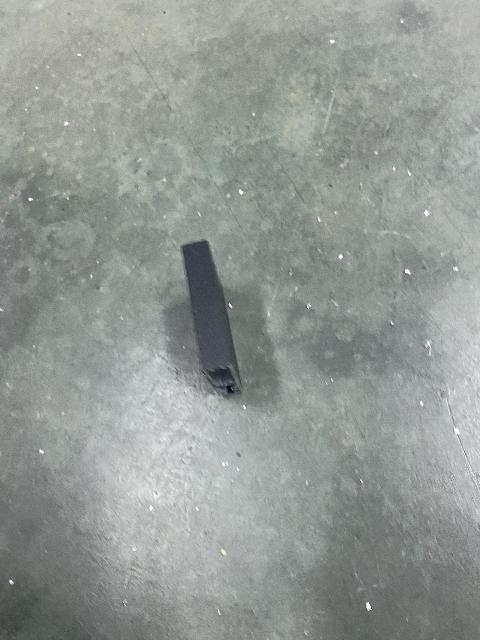Metal: (167, 232, 257, 419)
